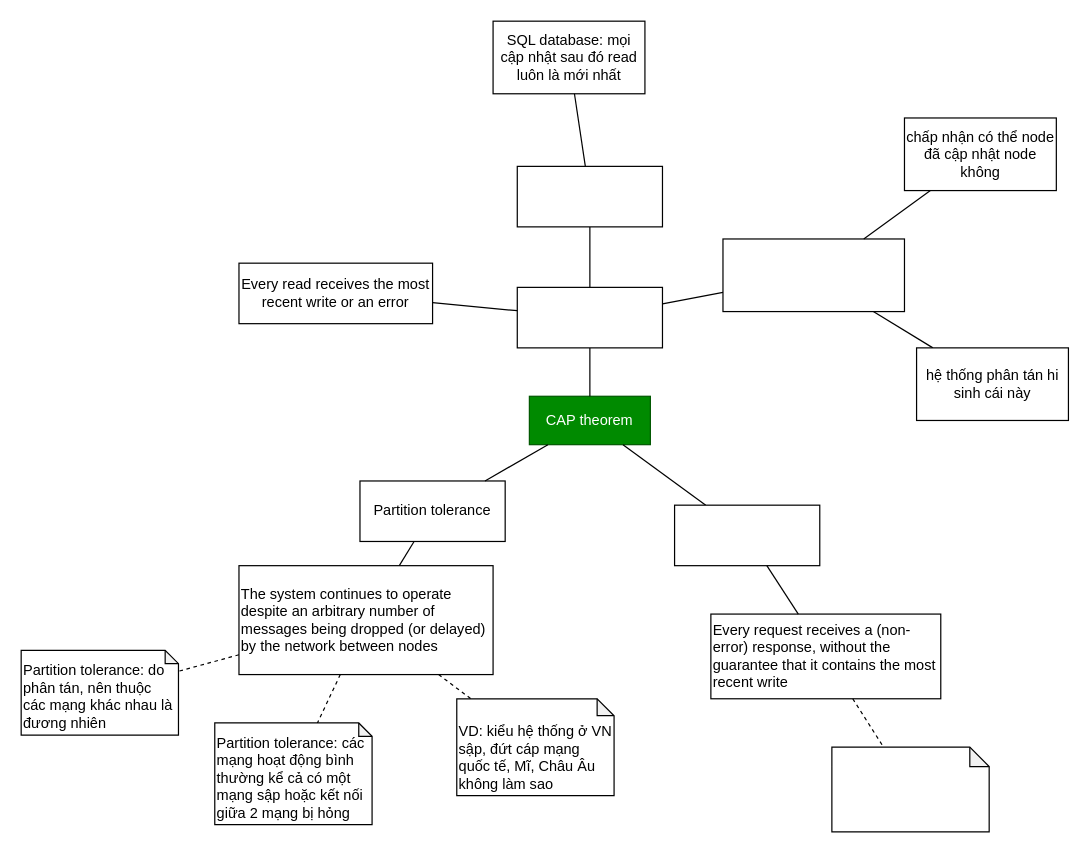
This 1090x853 diagram has some shape labels left out. Each missing label, with the centre of its shape:
"Availability" belongs at point (746, 535).
"Availability: phải trả về kết quả, chấp nhận trả về result cũ" belongs at point (910, 789).
"Consistency" belongs at point (589, 317).
"eventually consistency (weak consistency) (xem trong img)" belongs at point (813, 275).
"strong consistency (xem trong img)" belongs at point (589, 196).
